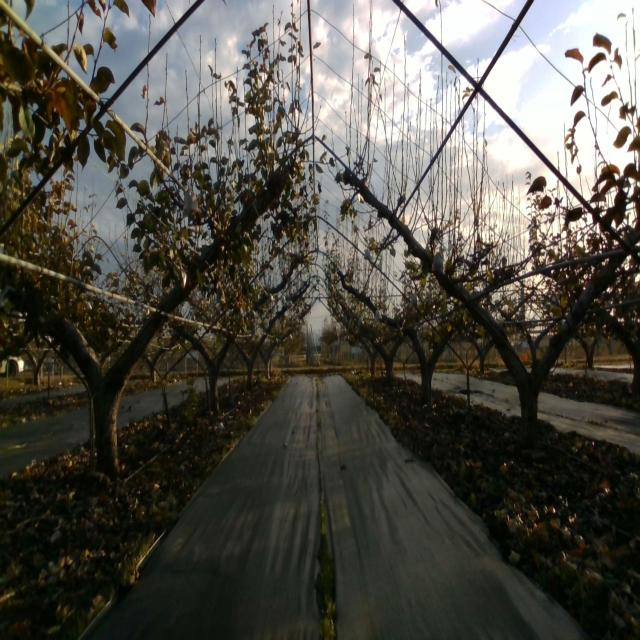pearbags: (181, 184, 200, 218), (431, 250, 444, 275)
